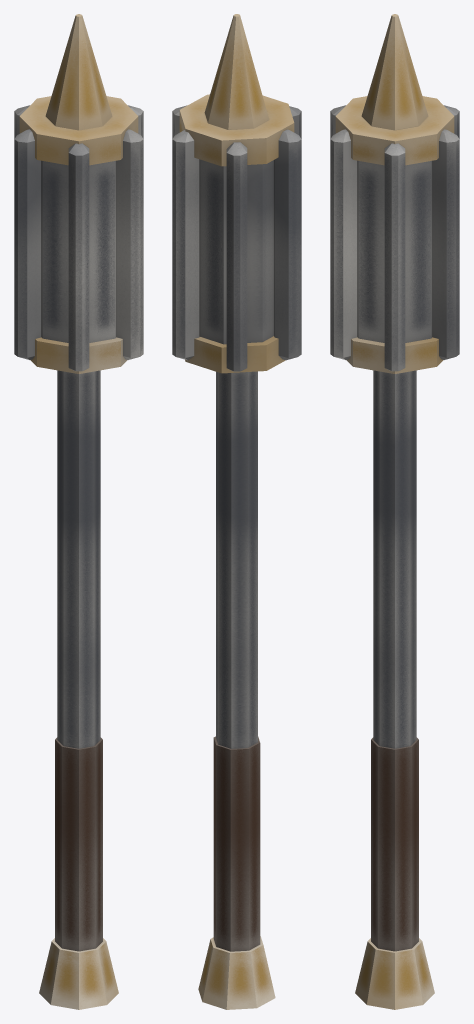
Rendered from weapon_mace.glb.
The picture shows the model from 3 angles, left to right: view 1: azimuth 90°, elevation 25°; view 2: azimuth 210°, elevation 25°; view 3: azimuth 270°, elevation 25°; orthographic projection.
Parts seen in each view (by area): view 1: weapon_mace; view 2: weapon_mace; view 3: weapon_mace.
Boxes of the visible parts, bbox=[...] form: weapon_mace: bbox=[14, 14, 143, 1009]; weapon_mace: bbox=[172, 14, 301, 1009]; weapon_mace: bbox=[330, 14, 459, 1009].
Bounding box in the file's own units: 0.1271 × 0.945 × 0.1131.
Materials: 1 (1 with a texture image).
